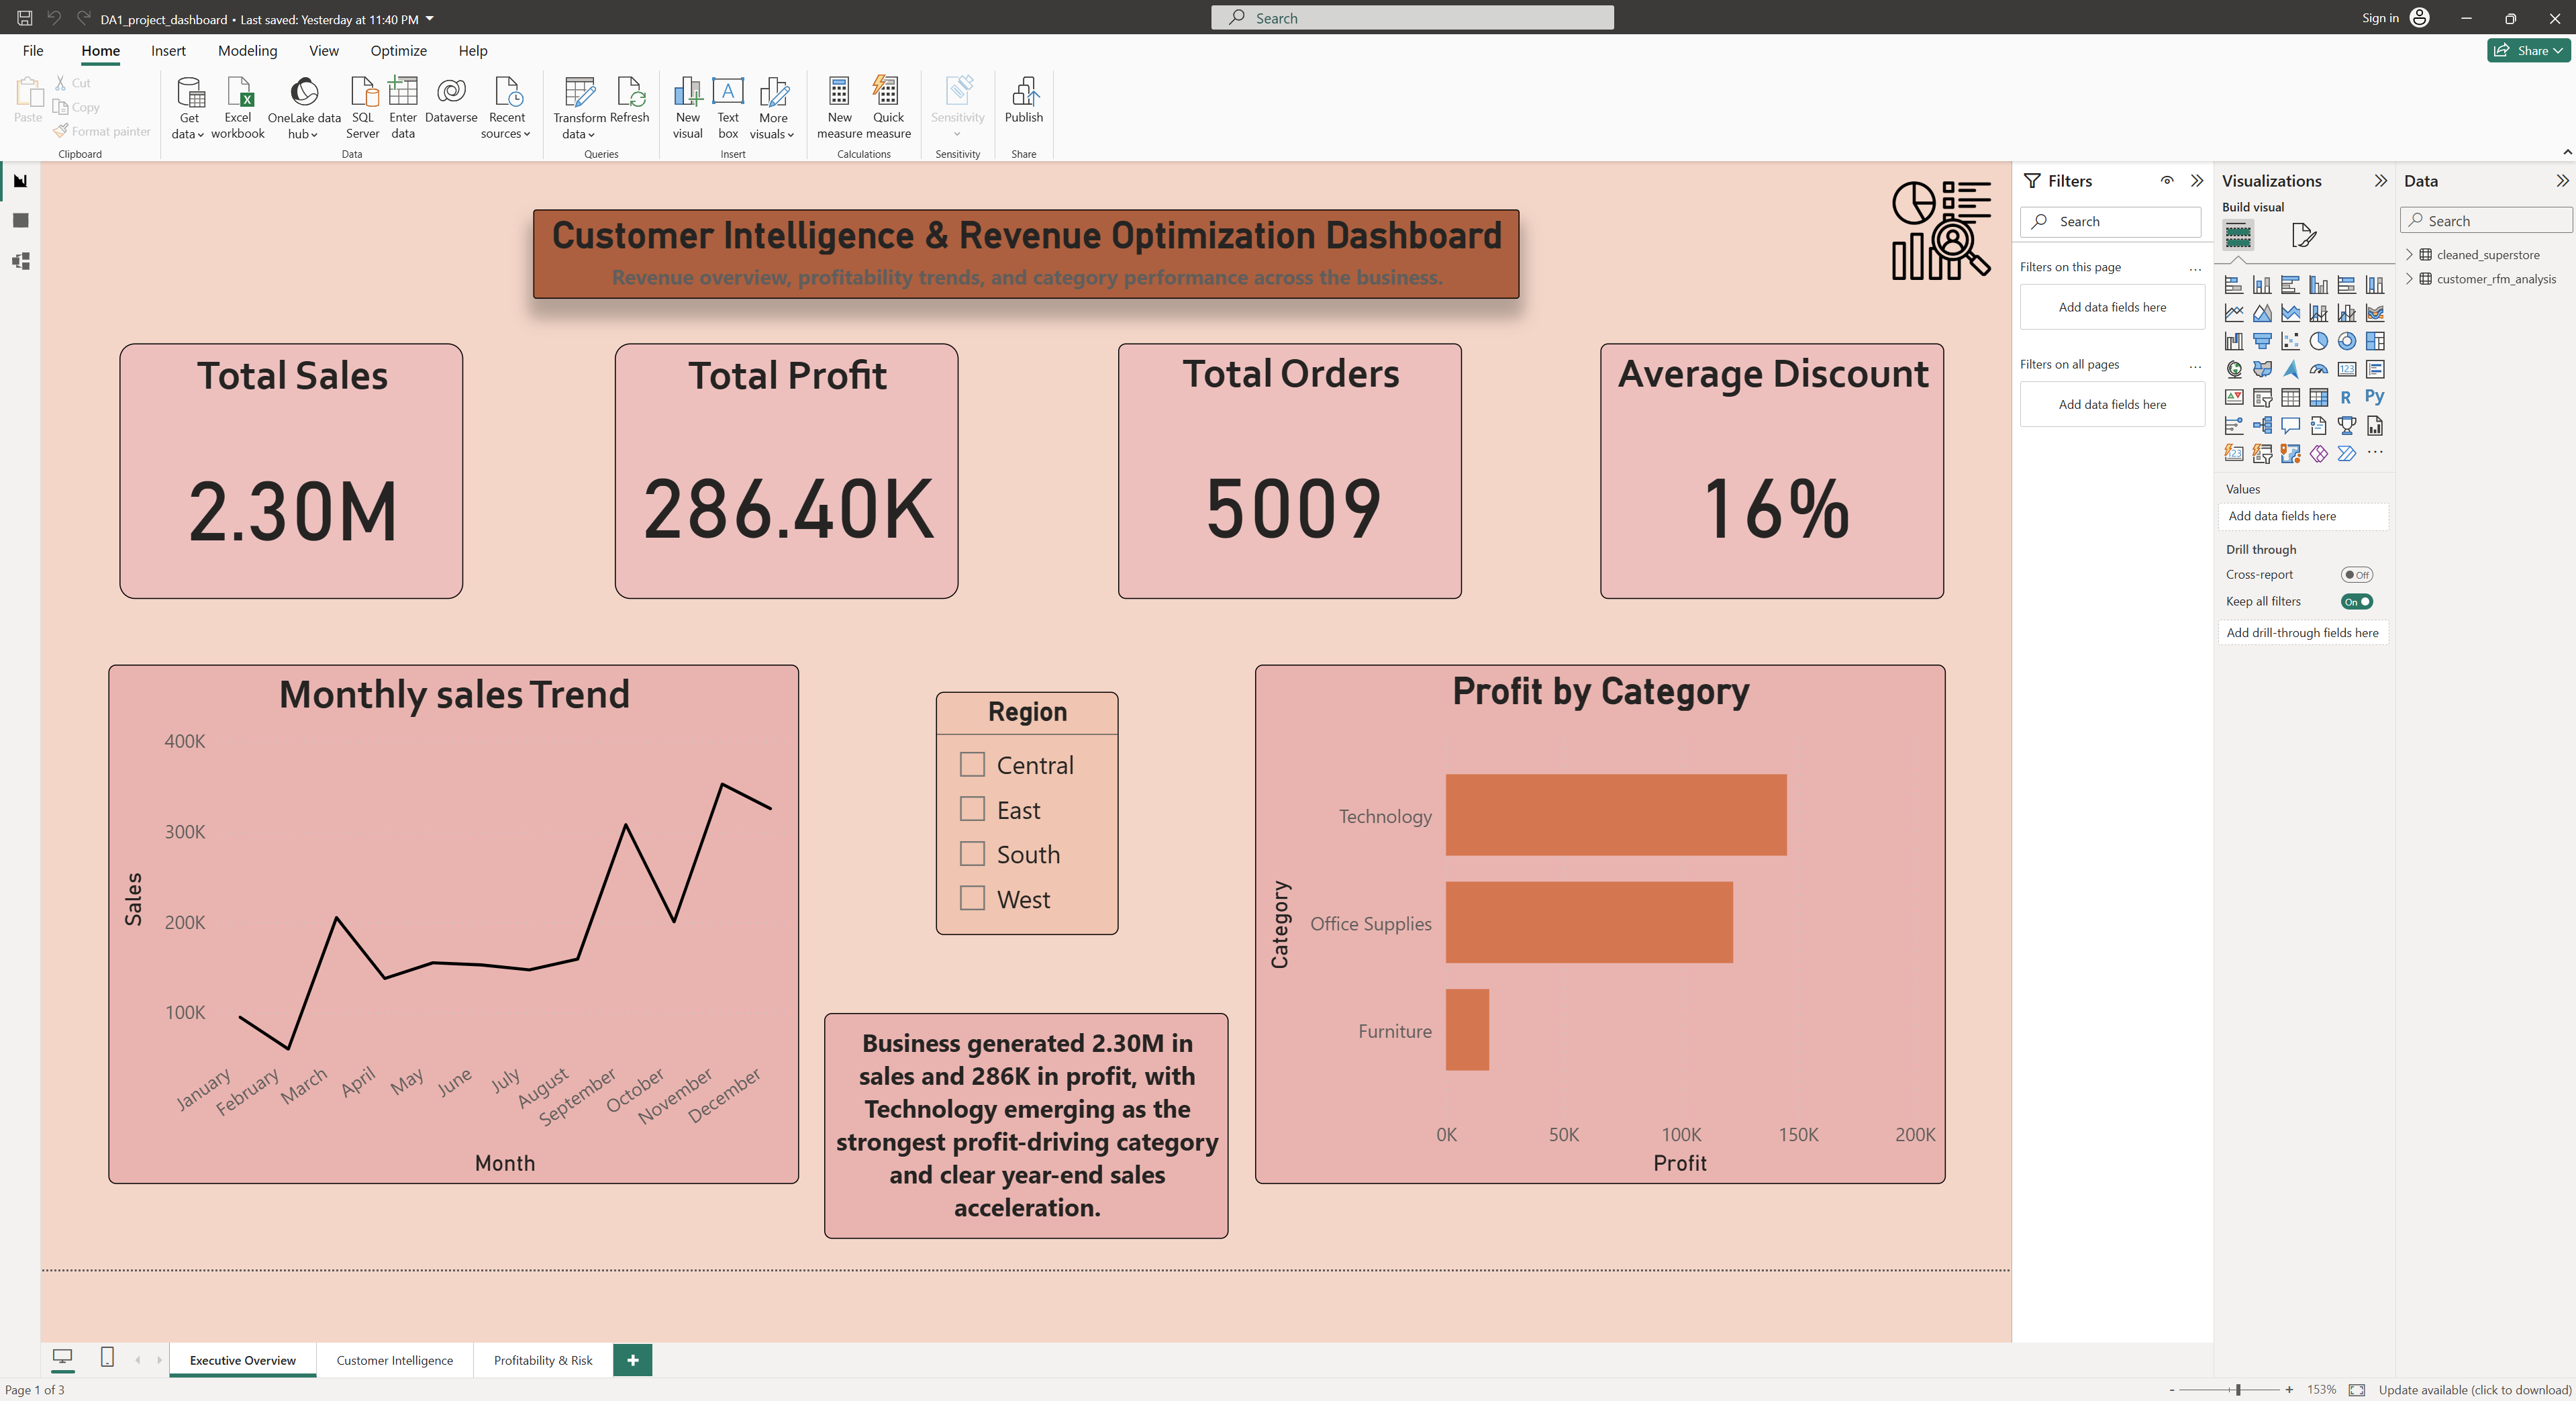

The dashboard page shown, as its layout file describes it:
{"tool":"powerbi","page":{"name":"Executive Overview","canvas":[1280,720],"ordinal":0},"visuals":[{"type":"card","title":"Total Sales","fields":{"Values":["cleaned_superstore.Total sales"]},"box":[51,118.4,223.7,166.1],"z":0},{"type":"card","title":"Total Profit","fields":{"Values":["cleaned_superstore.Total Profit"]},"box":[372.8,118.4,223.7,166.1],"z":1000},{"type":"card","title":"Total Orders","fields":{"Values":["cleaned_superstore.Total Orders"]},"box":[699.7,118.4,223.7,166.1],"z":2000},{"type":"card","title":"Average Discount","fields":{"Values":["cleaned_superstore.Avg Discount"]},"box":[1013,118.4,223.7,166.1],"z":3000},{"type":"lineChart","title":"Monthly sales Trend","fields":{"Category":["cleaned_superstore.order_date.Variation.Date Hierarchy.Month"],"Y":["Sum(cleaned_superstore.sales)"]},"box":[43.8,327,448.6,337.4],"z":4000},{"type":"clusteredBarChart","title":"Profit by Category","fields":{"Category":["cleaned_superstore.category"],"Y":["Sum(cleaned_superstore.profit)"]},"box":[788.7,327,448.6,337.4],"z":5000},{"type":"slicer","title":"Region","fields":{"Values":["cleaned_superstore.region"]},"box":[581.4,344.6,118.4,158.3],"z":6000},{"type":"textbox","title":"Customer Intelligence & Revenue Optimization Dashboard","box":[319.8,31.4,640.9,58.2],"z":7000},{"type":"image","box":[1197.4,7.8,75.2,74.6],"z":8000},{"type":"textbox","box":[508.8,553.2,262.9,146.5],"z":8001}]}

Visuals, with their boxes on the page's 1280x720 design canvas (x1, y1, x2, y2). These are canvas units, not pixel positions in the 2576x1401 screenshot, which may show the page scaled, cropped or inside an application window:
"Total Sales" card: box(51, 118, 275, 284)
"Total Profit" card: box(373, 118, 596, 284)
"Total Orders" card: box(700, 118, 923, 284)
"Average Discount" card: box(1013, 118, 1237, 284)
"Monthly sales Trend" lineChart: box(44, 327, 492, 664)
"Profit by Category" clusteredBarChart: box(789, 327, 1237, 664)
"Region" slicer: box(581, 345, 700, 503)
"Customer Intelligence & Revenue Optimization Dashboard" textbox: box(320, 31, 961, 90)
image: box(1197, 8, 1273, 82)
textbox: box(509, 553, 772, 700)
